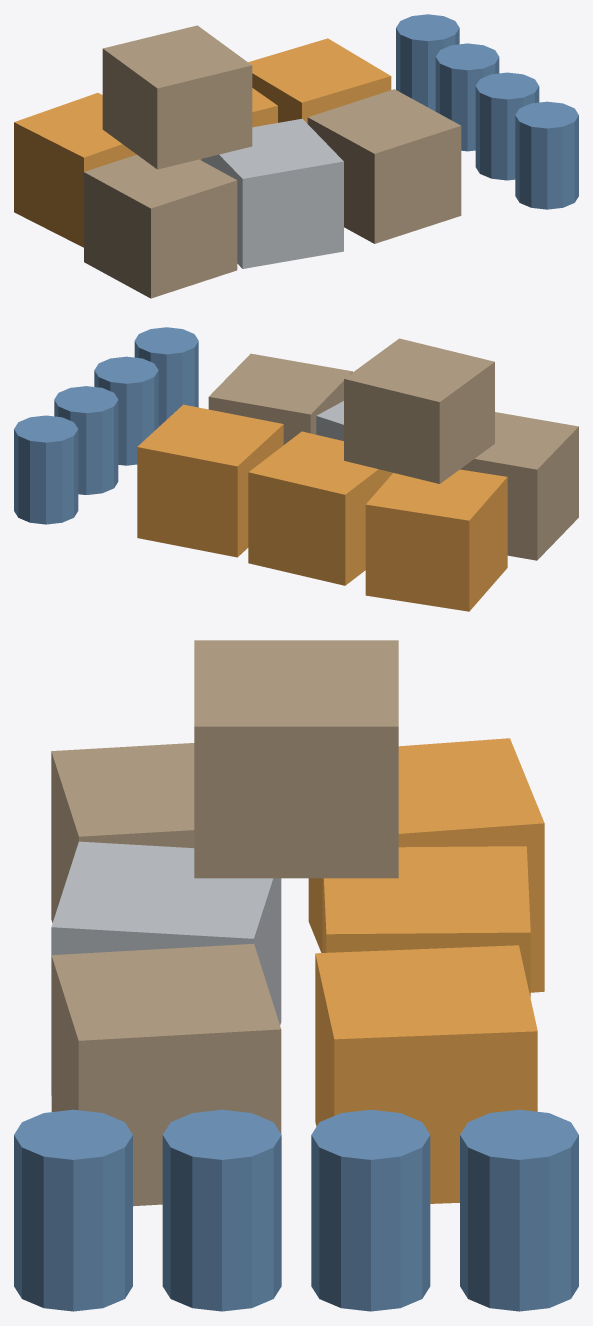
File: SupplyCrates.glb
The picture shows the model from 3 angles, top to bottom: view 1: azimuth 30°, elevation 25°; view 2: azimuth 150°, elevation 25°; view 3: azimuth 270°, elevation 25°; orthographic projection. The views are drawn at different scales.
Parts seen in each view (by area): view 1: Crate, Crate.006, Crate.002, Crate.001, Crate.003, Crate.005, Drum, Drum.001, Drum.002, Drum.003, Crate.004; view 2: Crate.006, Crate.003, Crate.005, Crate.004, Crate, Crate.002, Drum.003, Drum.002, Drum.001, Drum, Crate.001; view 3: Crate.006, Crate.002, Crate.005, Drum.001, Drum.002, Drum, Drum.003, Crate.001, Crate.004, Crate.003, Crate.
Part boxes in pixels (x1=…): Crate: x1=84, y1=154, x2=237, y2=298; Crate.006: x1=102, y1=25, x2=252, y2=169; Crate.002: x1=307, y1=89, x2=461, y2=243; Crate.001: x1=201, y1=118, x2=343, y2=268; Crate.003: x1=14, y1=93, x2=136, y2=247; Crate.005: x1=248, y1=38, x2=391, y2=123; Drum: x1=515, y1=101, x2=578, y2=209; Drum.001: x1=475, y1=72, x2=539, y2=180; Drum.002: x1=435, y1=43, x2=499, y2=151; Drum.003: x1=396, y1=14, x2=459, y2=111; Crate.004: x1=199, y1=88, x2=277, y2=160; Crate.006: x1=344, y1=338, x2=494, y2=483; Crate.003: x1=365, y1=469, x2=507, y2=611; Crate.005: x1=137, y1=404, x2=283, y2=557; Crate.004: x1=248, y1=431, x2=392, y2=585; Crate: x1=460, y1=412, x2=578, y2=560; Crate.002: x1=208, y1=353, x2=352, y2=444; Drum.003: x1=14, y1=415, x2=78, y2=524; Drum.002: x1=54, y1=386, x2=118, y2=494; Drum.001: x1=94, y1=356, x2=158, y2=465; Drum: x1=134, y1=327, x2=198, y2=426; Crate.001: x1=316, y1=401, x2=343, y2=440; Crate.006: x1=194, y1=640, x2=398, y2=878; Crate.002: x1=51, y1=943, x2=281, y2=1206; Crate.005: x1=315, y1=945, x2=537, y2=1203; Drum.001: x1=162, y1=1109, x2=281, y2=1311; Drum.002: x1=311, y1=1109, x2=430, y2=1311; Drum: x1=14, y1=1109, x2=132, y2=1311; Drum.003: x1=460, y1=1109, x2=578, y2=1311; Crate.001: x1=51, y1=841, x2=281, y2=1095; Crate.004: x1=322, y1=846, x2=530, y2=997; Crate.003: x1=308, y1=738, x2=544, y2=992; Crate: x1=51, y1=743, x2=194, y2=922.
Size of the model in its own units: 5.16 by 1.9 by 3.04.
